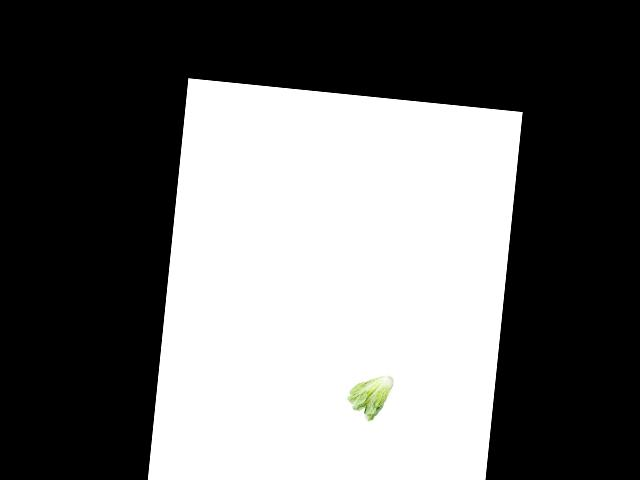lettuce: (339, 369, 395, 422)
